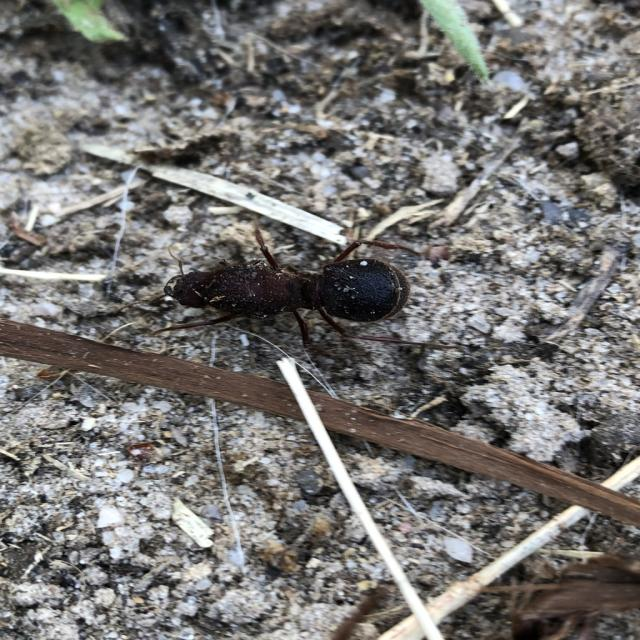Alive-Female-Dealate: (116, 216, 462, 365)
